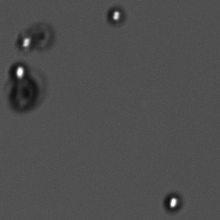Dead Cell: (7, 80, 40, 112), (34, 22, 60, 50)
Living Cell: (103, 4, 129, 30), (160, 189, 186, 215), (7, 59, 30, 81), (15, 29, 37, 51)
